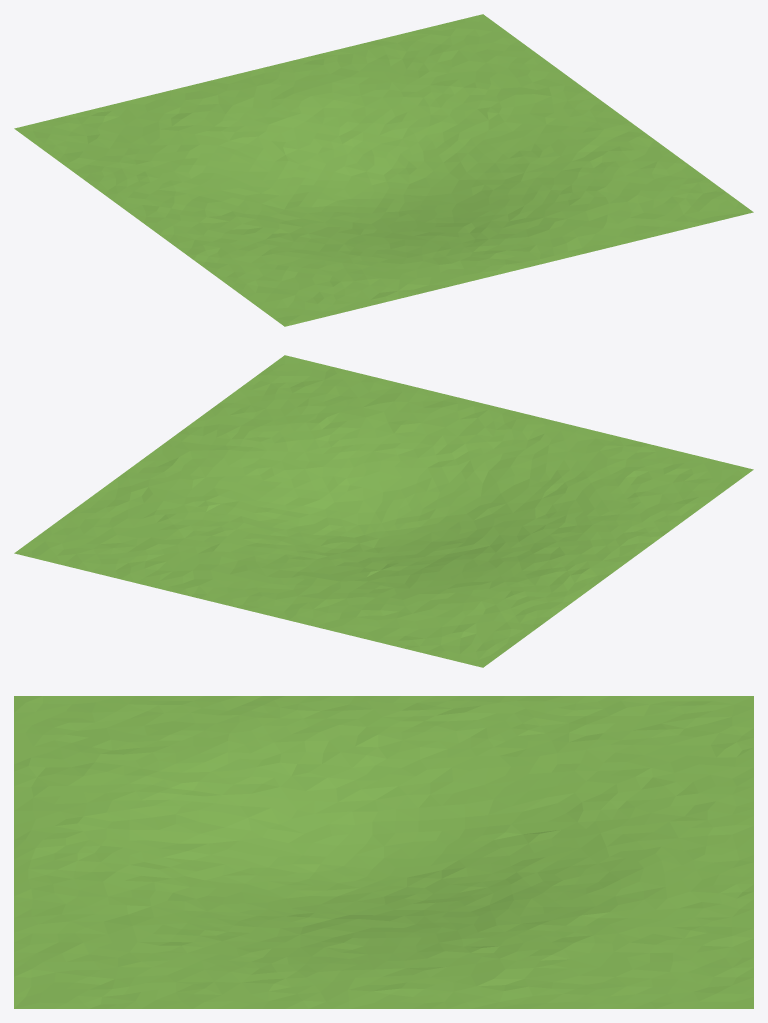
The model's file is MT_Terrain_L_b_01_LOD.fbx.
The picture shows the model from 3 angles, top to bottom: view 1: azimuth 30°, elevation 25°; view 2: azimuth 150°, elevation 25°; view 3: azimuth 270°, elevation 25°; orthographic projection. The views are drawn at different scales.
Parts seen in each view (by area): view 1: MT_Terrain_L_b_01_LOD0; view 2: MT_Terrain_L_b_01_LOD0; view 3: MT_Terrain_L_b_01_LOD0.
Boxes of the visible parts, box(x1,y1,x2,y2) form: MT_Terrain_L_b_01_LOD0: box(14, 14, 753, 326); MT_Terrain_L_b_01_LOD0: box(14, 355, 753, 667); MT_Terrain_L_b_01_LOD0: box(14, 696, 753, 1008).
Size of what is drawn, in the model's own units: 10000 by 446 by 10000.
